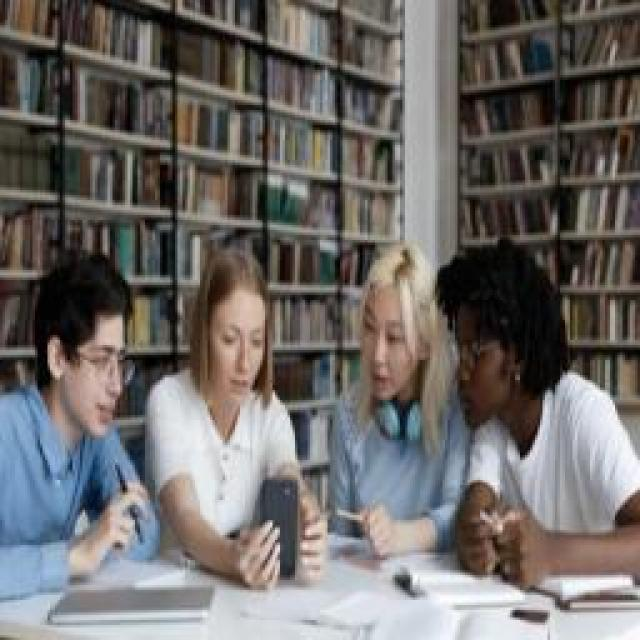phone: (147, 250, 325, 588)
